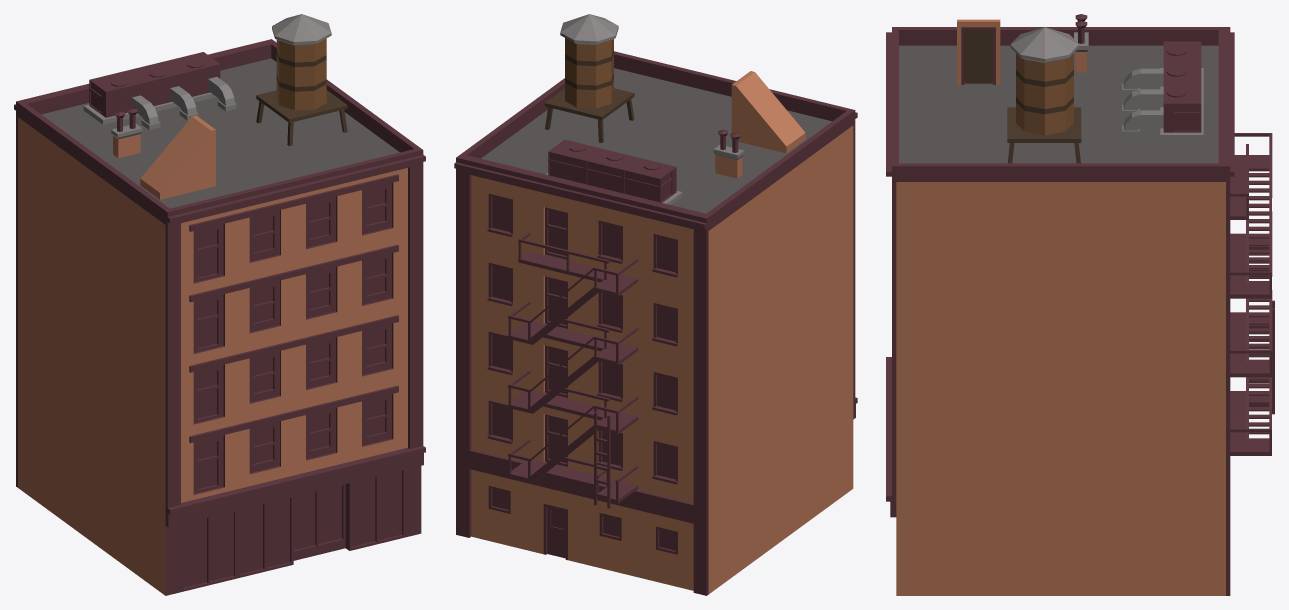
Rendered from building-block-4floor-back.fbx.
The picture shows the model from 3 angles, left to right: view 1: azimuth 30°, elevation 25°; view 2: azimuth 150°, elevation 25°; view 3: azimuth 270°, elevation 25°; orthographic projection. The views are drawn at different scales.
Parts seen in each view (by area): view 1: building-block-4floor-back; view 2: building-block-4floor-back; view 3: building-block-4floor-back.
Part boxes in pixels (x1=…): building-block-4floor-back: x1=14, y1=14, x2=425, y2=595; building-block-4floor-back: x1=454, y1=14, x2=857, y2=595; building-block-4floor-back: x1=886, y1=14, x2=1274, y2=595.
Bounding box in the file's own units: 11.4 × 20.61 × 13.45.
